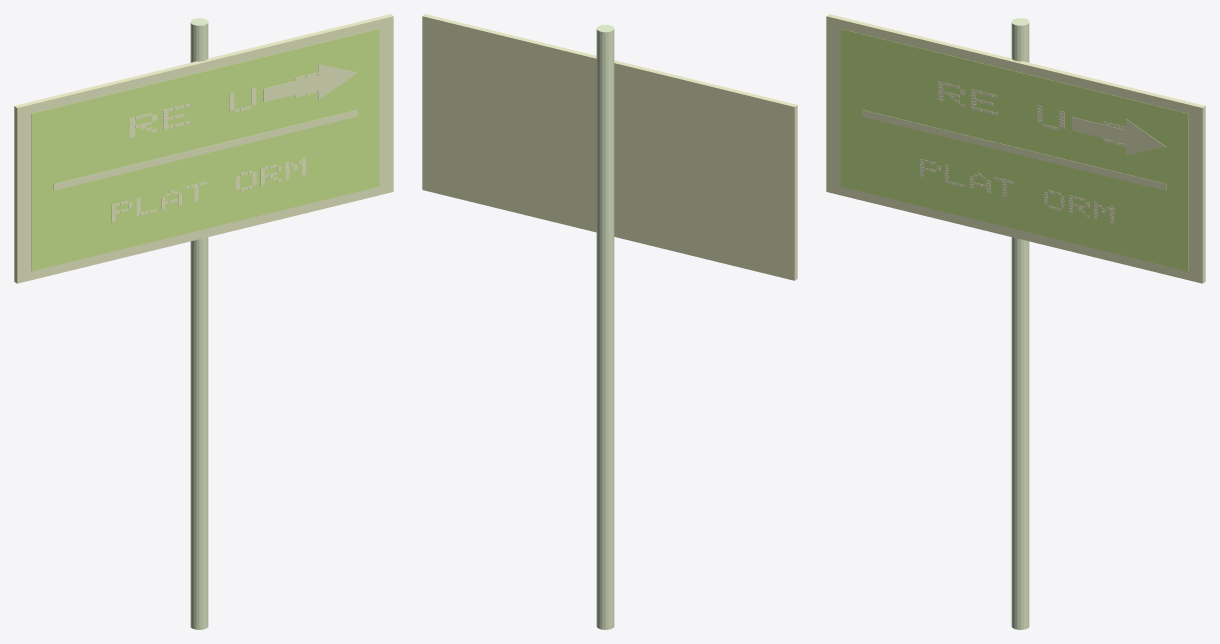
File: sign_destination_stack_platform_refuge_right.glb
3 views of the same model, side by side, from view 1: azimuth 30°, elevation 25°; view 2: azimuth 150°, elevation 25°; view 3: azimuth 330°, elevation 25° (orthographic).
Visible parts, largest first — view 1: layer_1_00, plate_base_00, pole, layer_2_00, layer_2_175, layer_2_176; view 2: plate_base_00, pole; view 3: layer_1_00, plate_base_00, pole, layer_2_00, layer_2_176, layer_2_175.
Part boxes in pixels (<box>): layer_1_00: <box>31,29,379,271</box>; plate_base_00: <box>14,14,393,283</box>; pole: <box>190,18,208,629</box>; layer_2_00: <box>53,109,357,190</box>; layer_2_175: <box>263,75,318,102</box>; layer_2_176: <box>318,64,357,100</box>; plate_base_00: <box>422,14,797,280</box>; pole: <box>596,24,614,629</box>; layer_1_00: <box>840,29,1188,271</box>; plate_base_00: <box>826,14,1205,283</box>; pole: <box>1011,18,1029,629</box>; layer_2_00: <box>862,109,1166,190</box>; layer_2_176: <box>1126,119,1165,154</box>; layer_2_175: <box>1072,117,1126,143</box>.
Bounding box in the file's own units: 1.44 × 2.2 × 0.0725.
